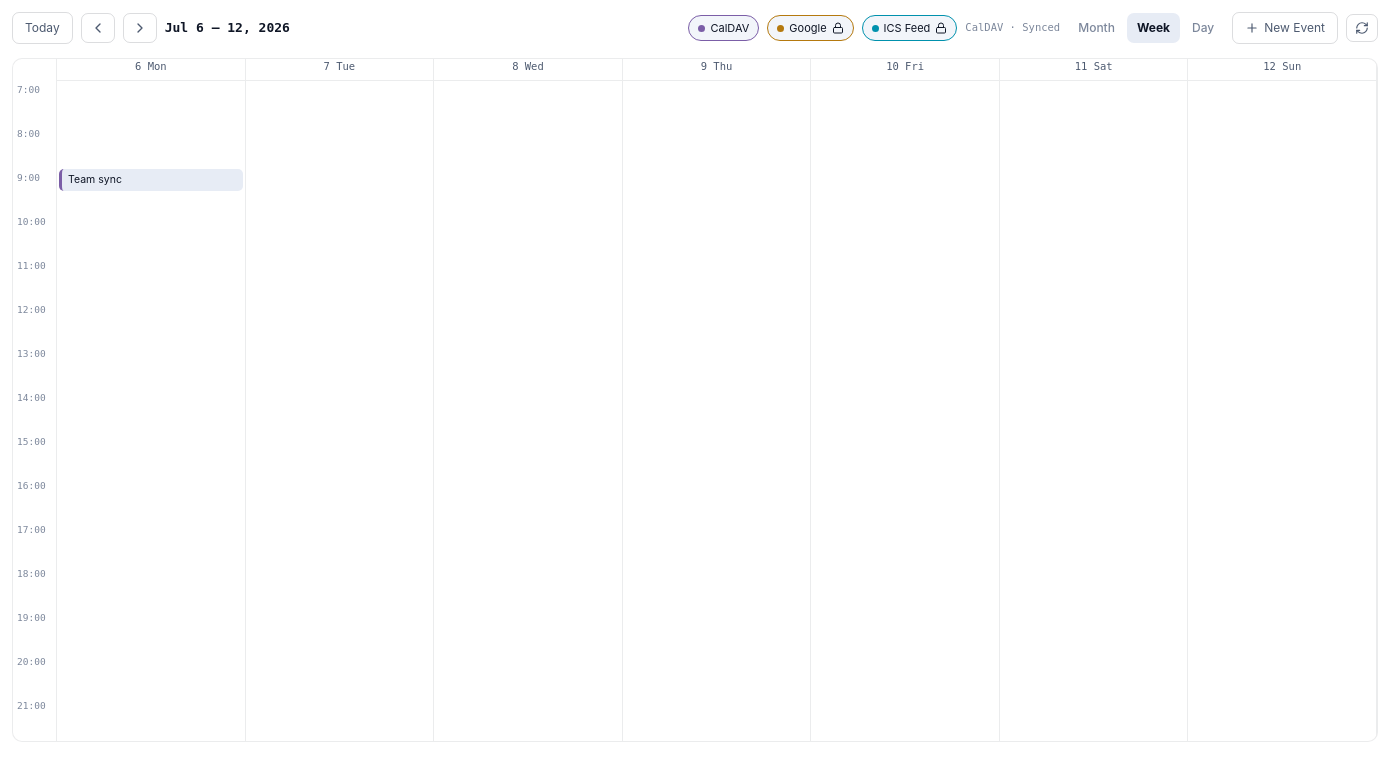
Test: CalendarPanel — 4 states + view switch + source chips + drawer › view switch: clicking Day renders the single-column day grid
This screenshot has width=1390, height=780.
expect the button "Team sync" is shown: met, box x1=59 y1=169 x2=243 y2=191
Click the button "Day": (1203, 28) x1=1182 y1=13 x2=1224 y2=43
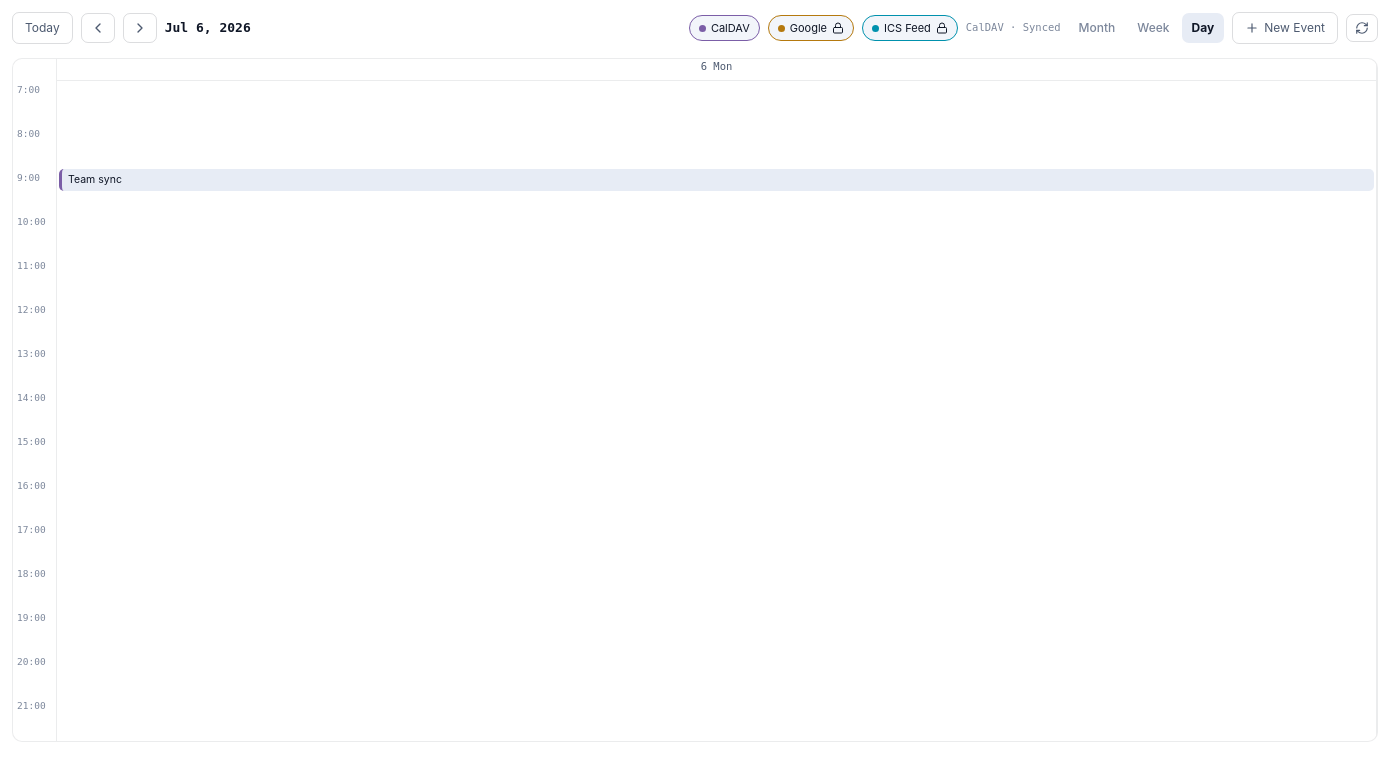
expect the table named "day-grid" is shown: met
